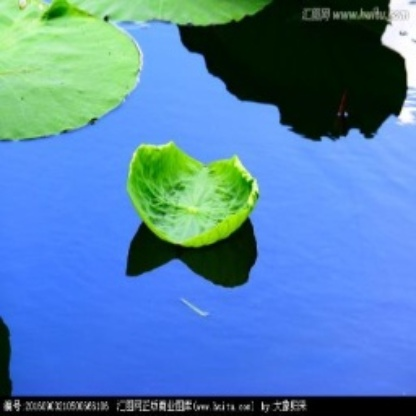leaf: (127, 137, 262, 252)
